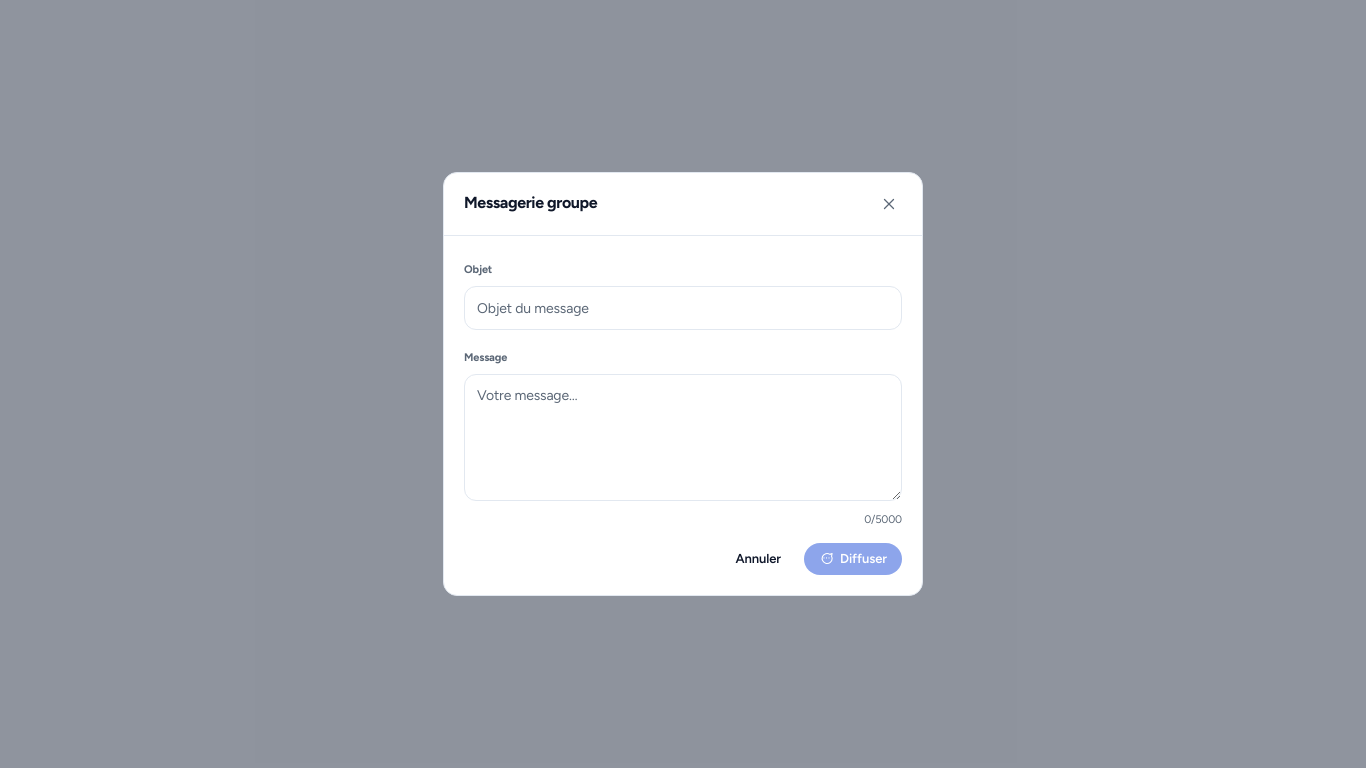
Test: ComposeDialog › le bouton d'envoi est désactivé tant que sujet+contenu ne sont pas remplis
Expected: the button "Diffuser" is disabled, [804,543,902,575]
Type "Réunion" into the field with placeholder "Objet du message" at (683,308), box [464,286,902,330]
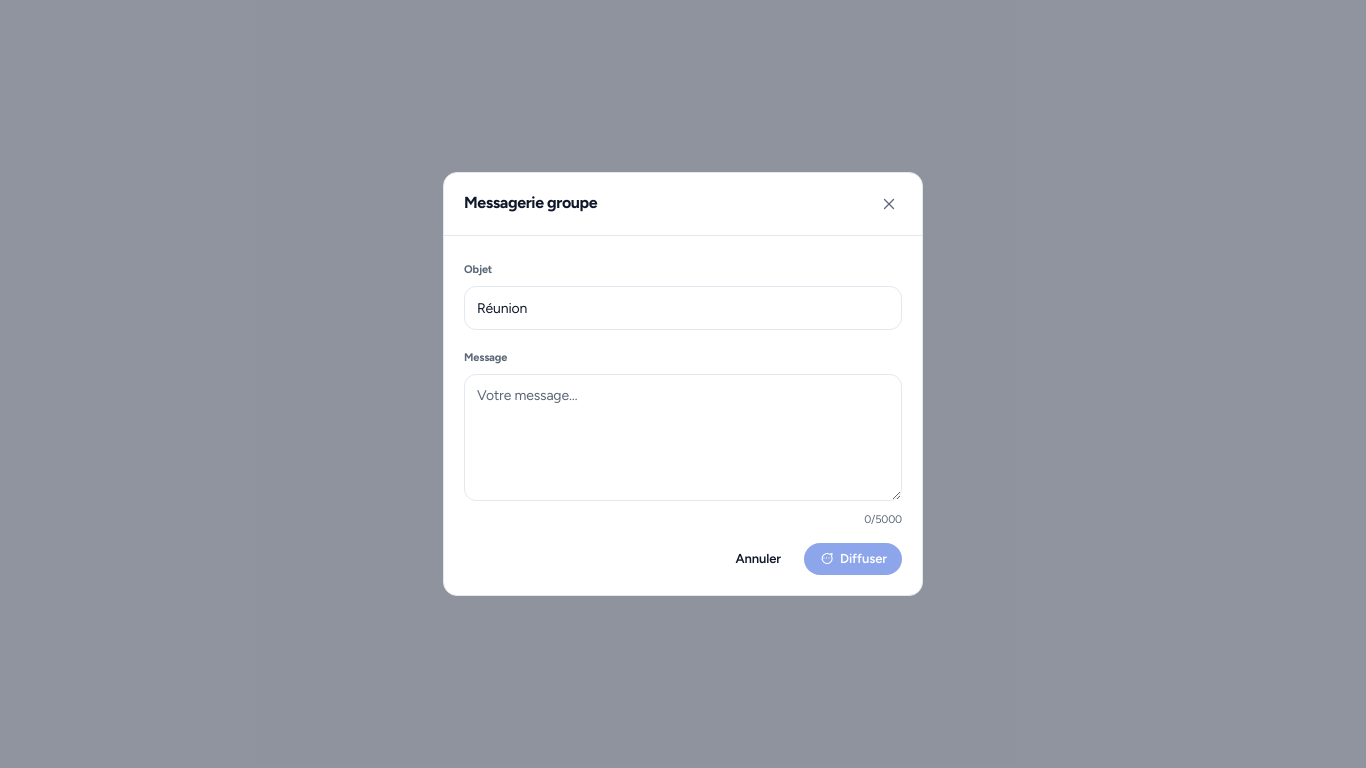
Expected: the button "Diffuser" is disabled, [804,543,902,575]
Type "Demain 17h" into the text box with placeholder "Votre message…" at (683,438), box [464,374,902,501]
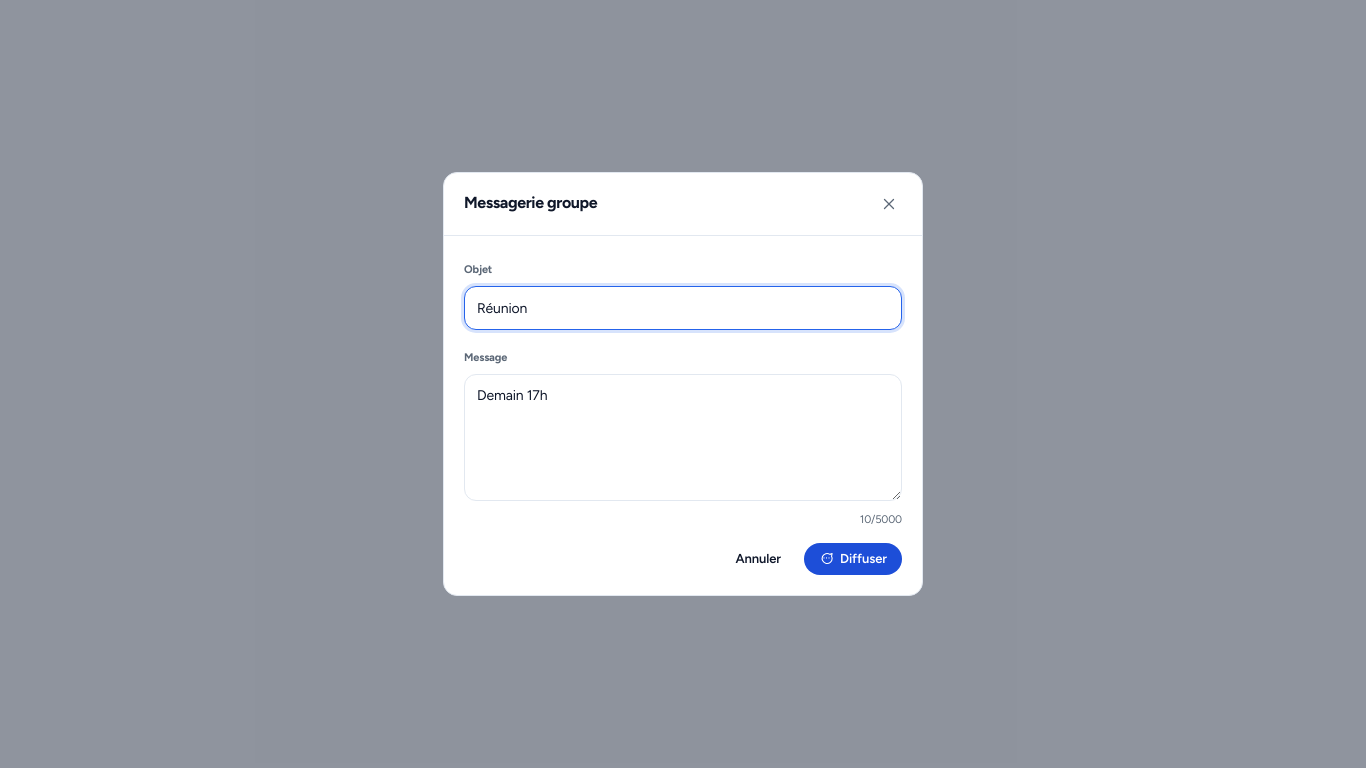
Expected: the button "Diffuser" is enabled, [804,543,902,575]
